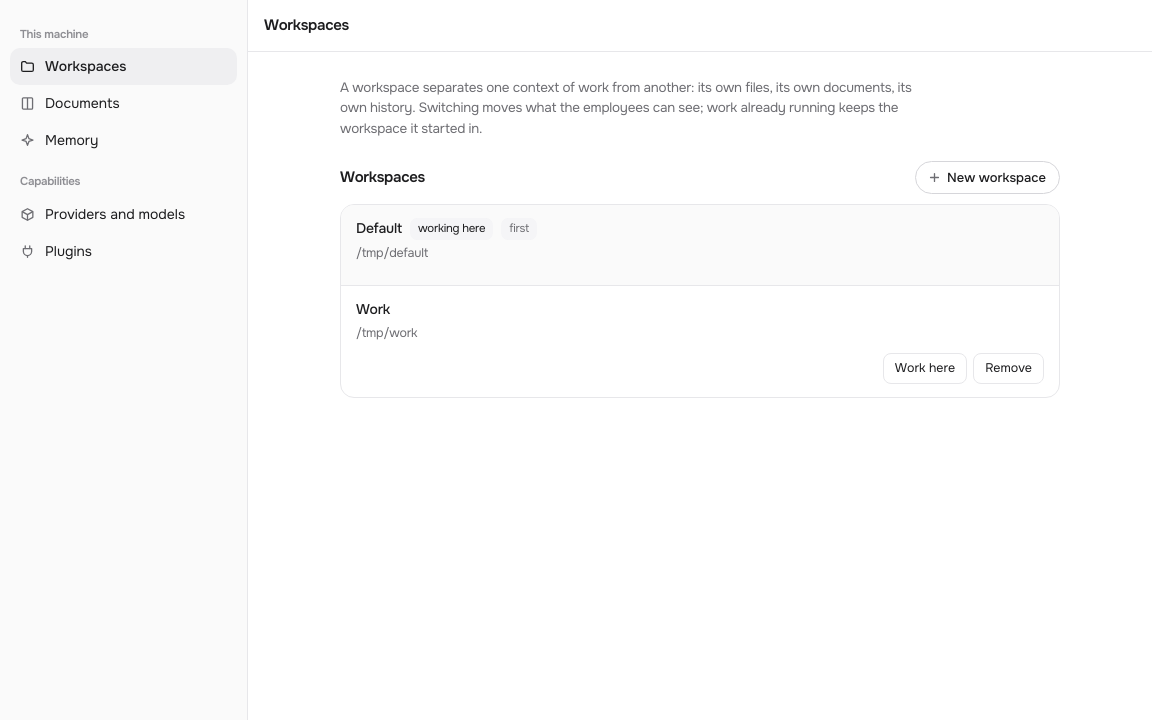
Scenario: Settings → Documents › says nothing is here yet, and adds one by path
Click the button "Documents" at [124, 104], box [10,85,237,122]
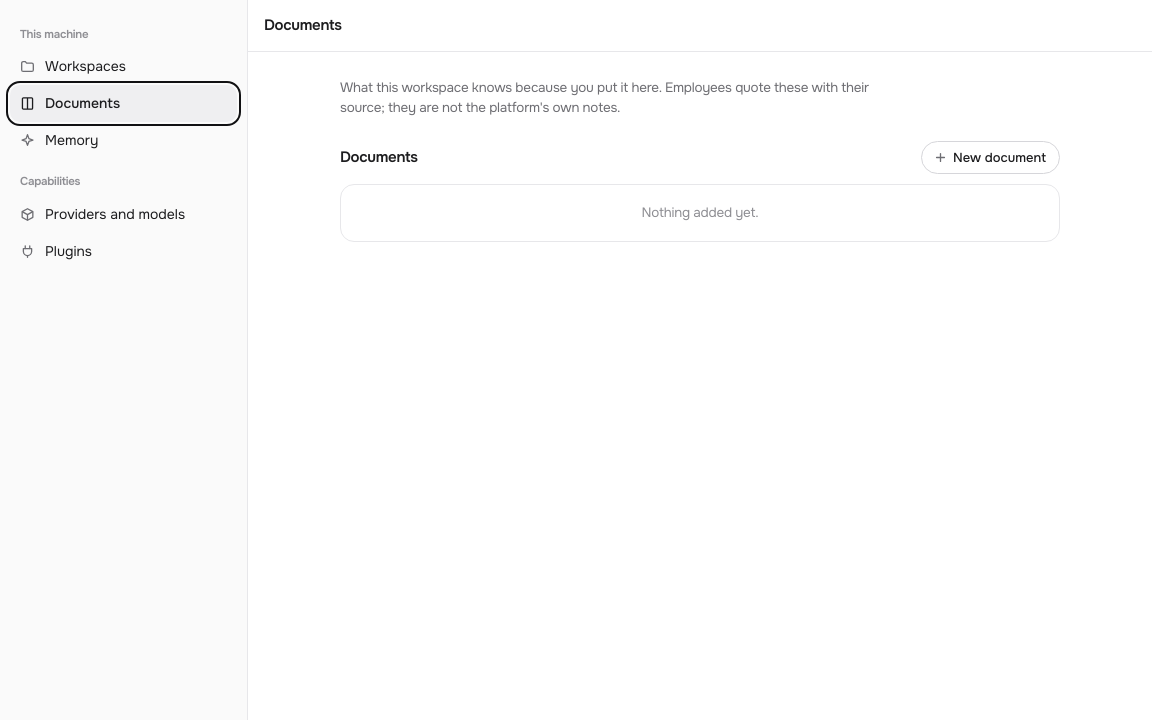
Expected: the text "Nothing added yet." is shown, [642,204,758,221]
Click the button "New document" at [990, 157], box [921,140,1060,174]
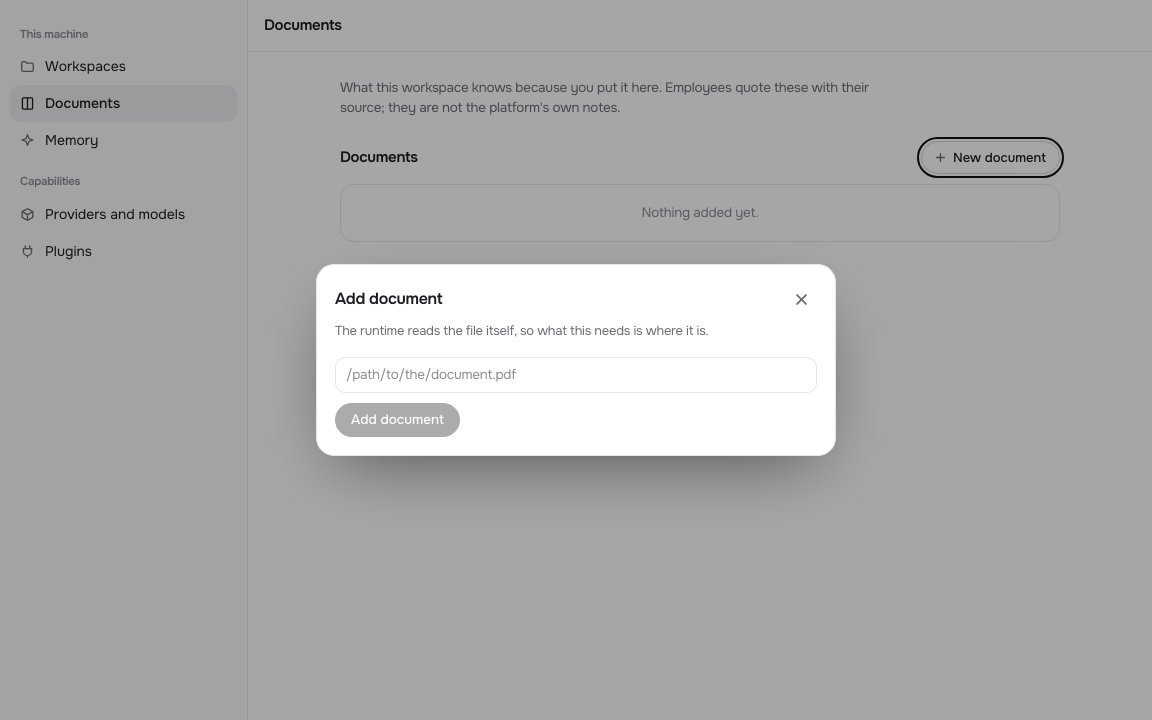
Type "/tmp/delivery.md" into the field named "Path to the document" at [576, 375], box [335,356,817,393]
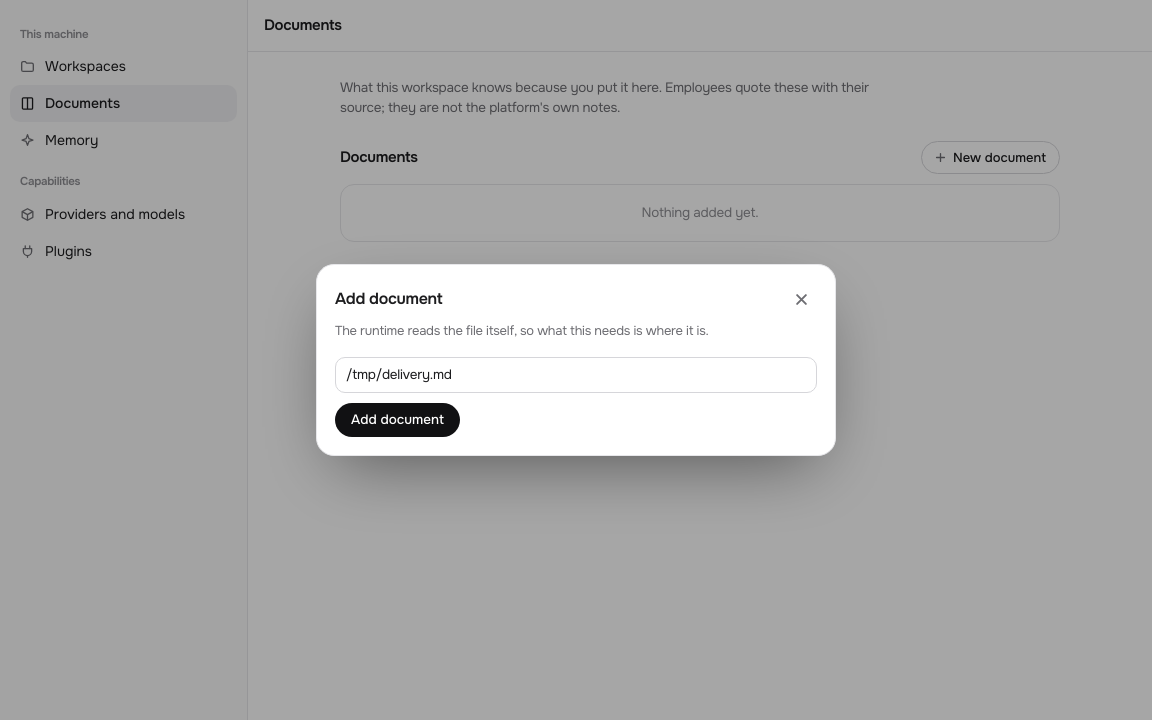
Click the button "Add document" at [398, 420], box [335,403,460,437]
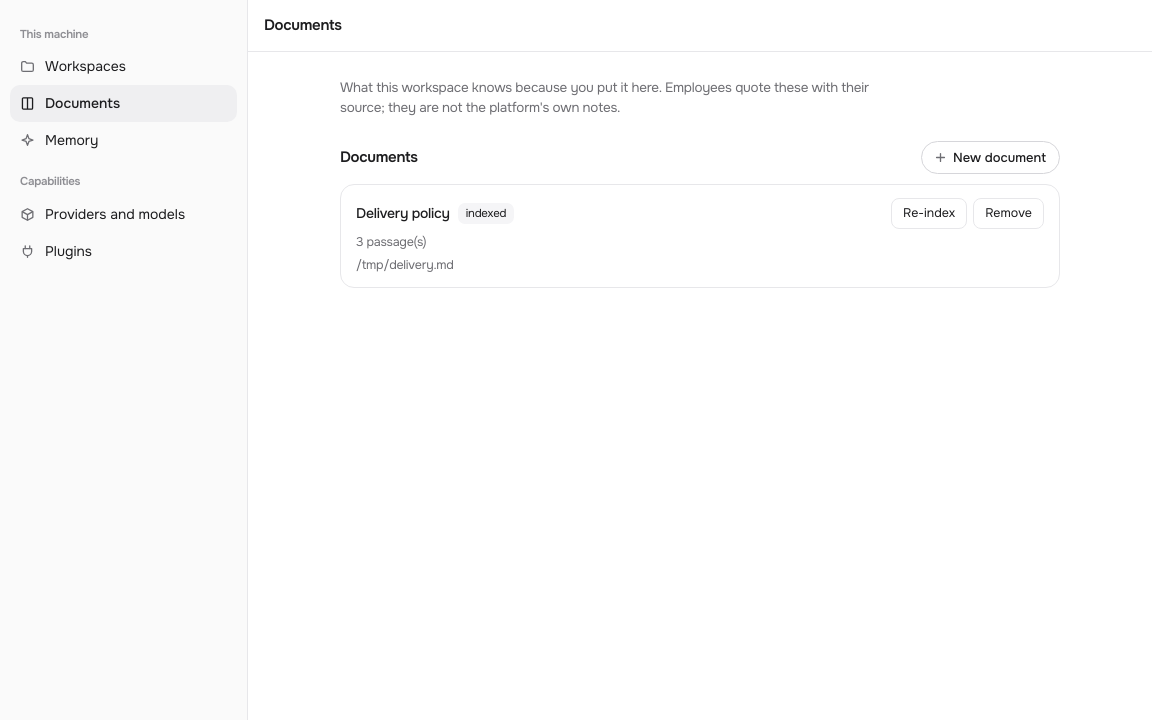
Expected: the text "Delivery policy" is shown, [356,203,450,224]
